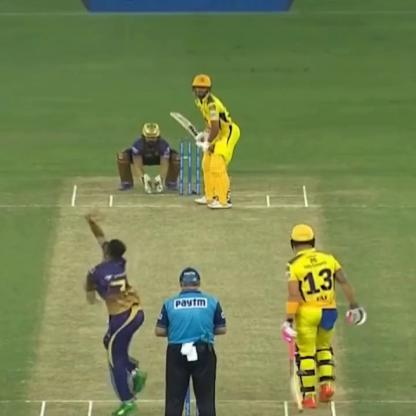bat: (283, 330, 306, 412), (169, 108, 203, 148)
pitch: (43, 177, 336, 415)
